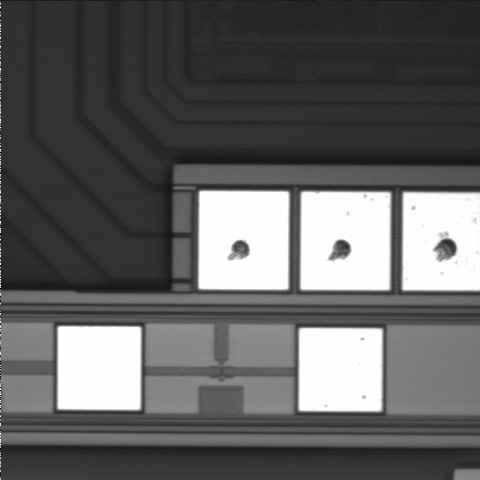pad: (199, 191, 289, 290), (301, 192, 390, 290), (58, 326, 141, 410), (299, 328, 382, 411)
